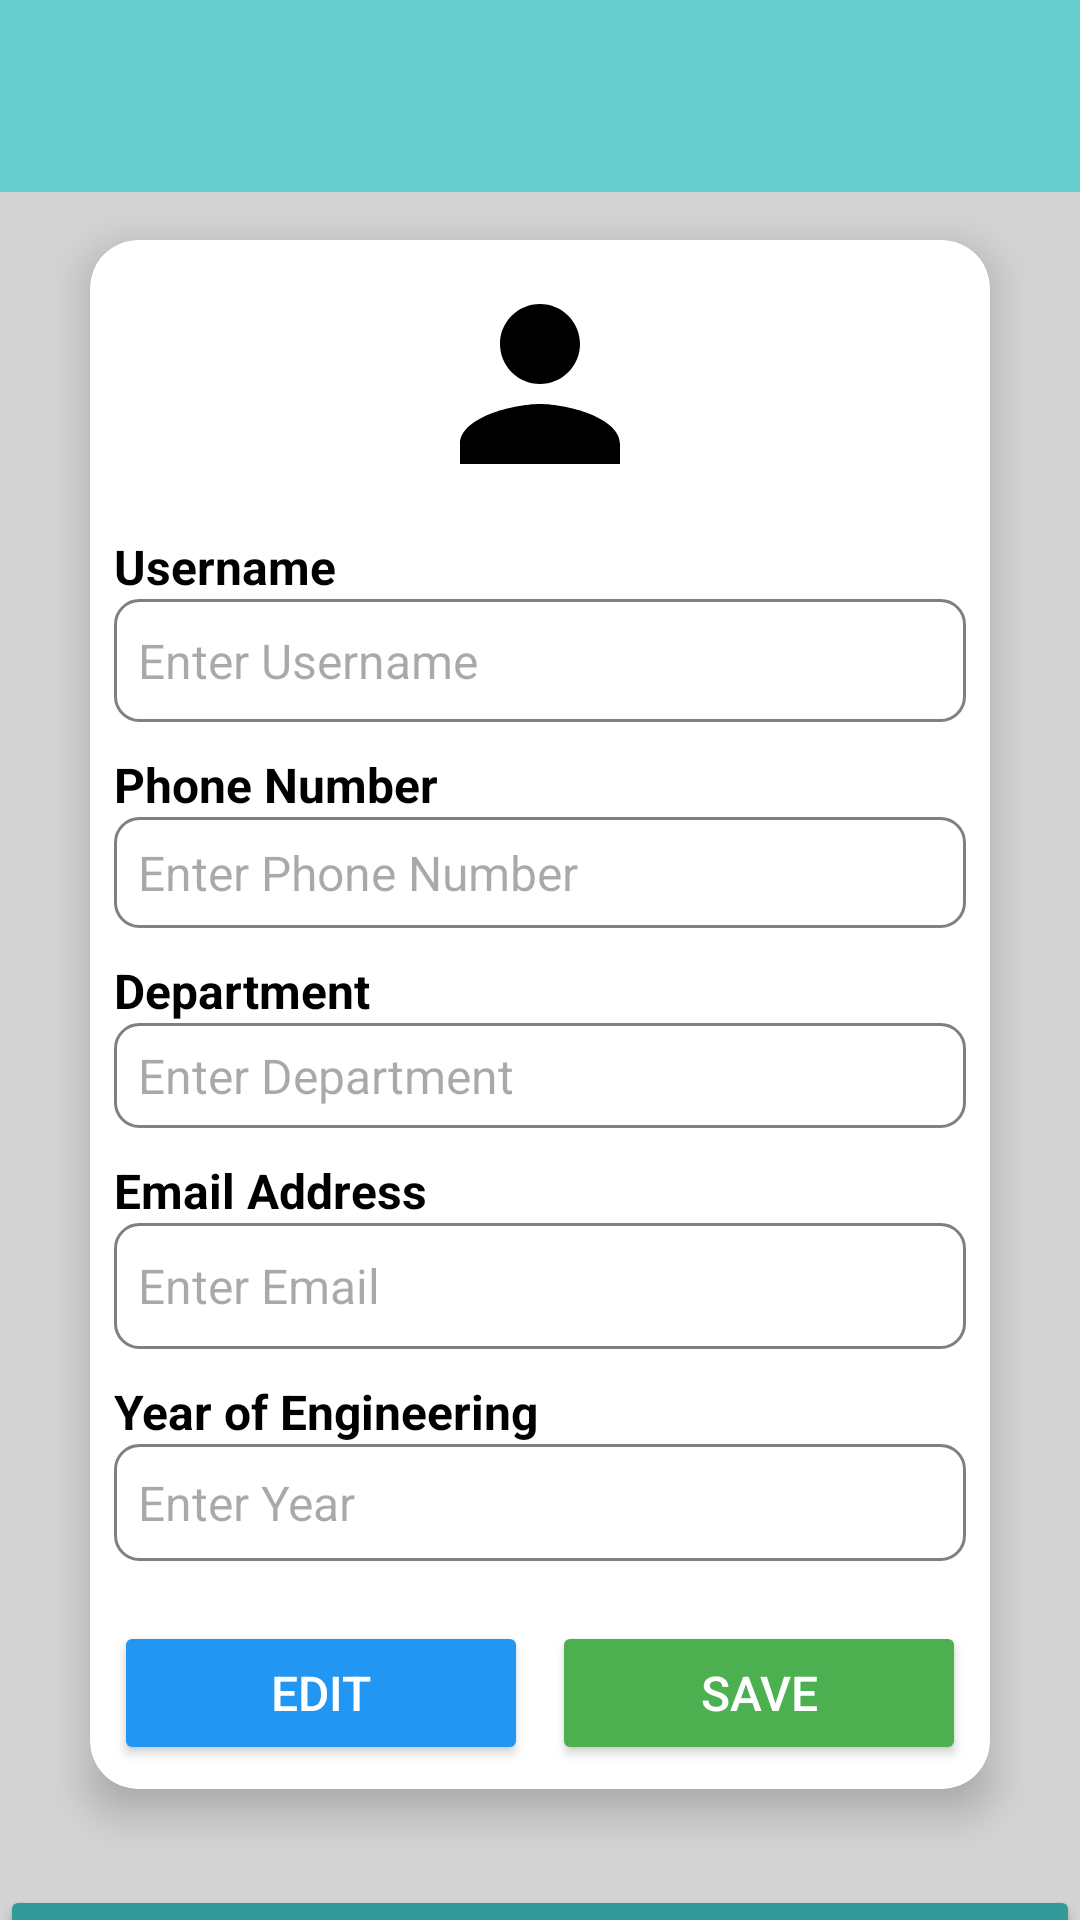

Icon click points for this 1080×1920 phone screenshot, format (x,y):
profile: (540,384)
